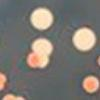pink: (80, 74, 100, 95), (26, 52, 43, 69), (0, 70, 7, 92), (3, 92, 15, 100), (12, 94, 25, 100), (95, 54, 100, 68)
white: (71, 26, 96, 52), (29, 6, 53, 32), (30, 36, 53, 56)
